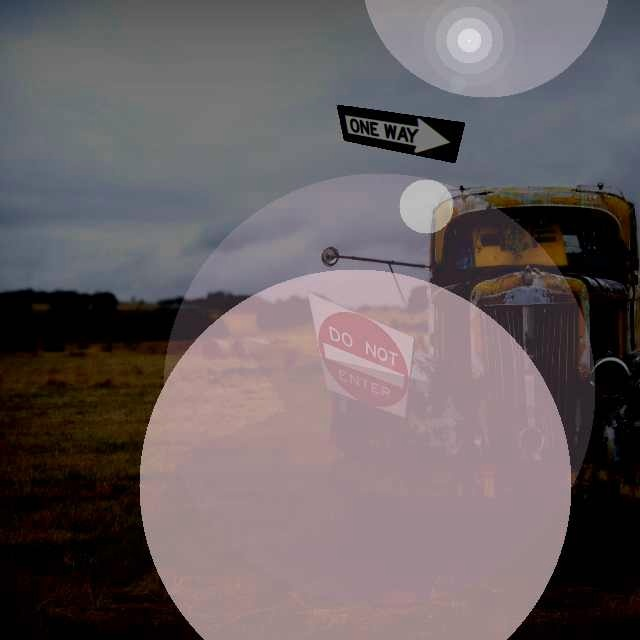DO_NOT_ENTER: (306, 290, 415, 419)
ONE_WAY_ right: (336, 104, 465, 163)
